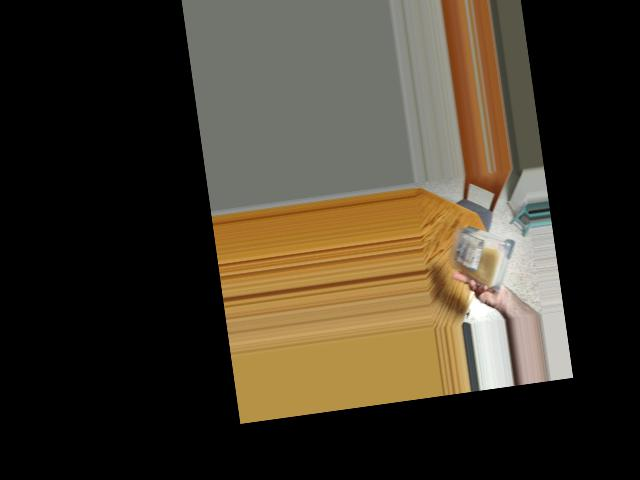cheese: (451, 215, 516, 294)
